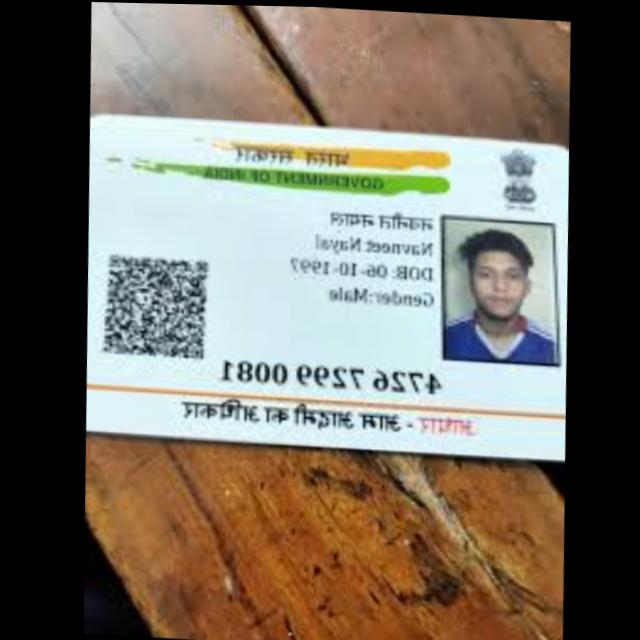aadhaar: (78, 109, 574, 466)
